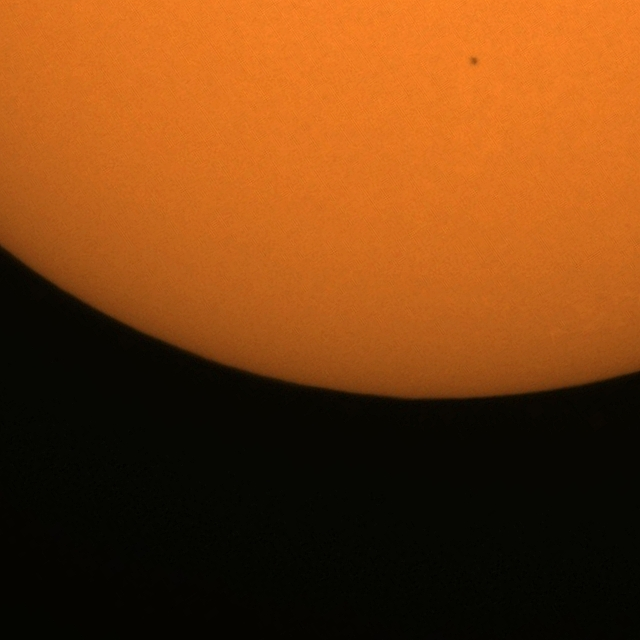sunspot: (468, 55, 479, 67)
